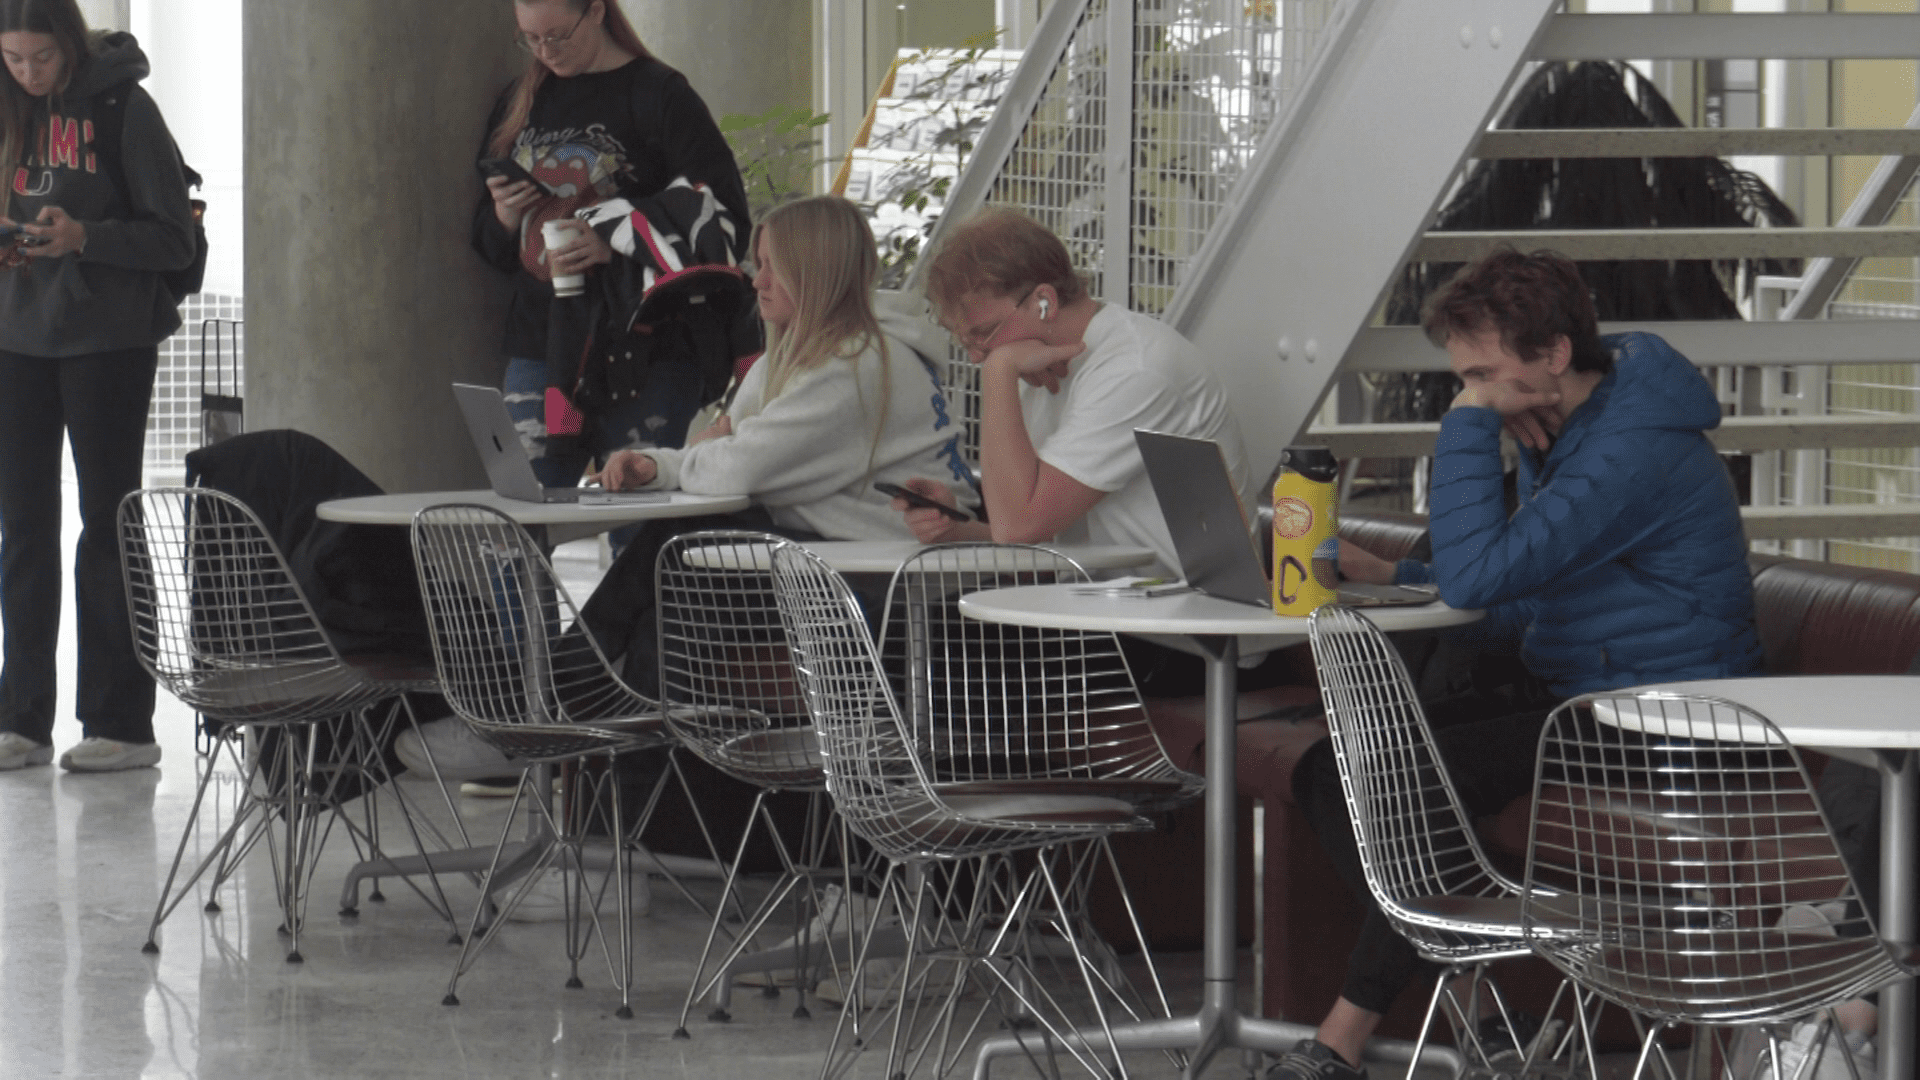EMPTY_CHAIR: (396, 439, 798, 1072), (862, 533, 1222, 1072), (745, 545, 1102, 1056), (1506, 629, 1916, 1073), (108, 489, 423, 985), (669, 502, 914, 1076), (1269, 596, 1563, 1067)
